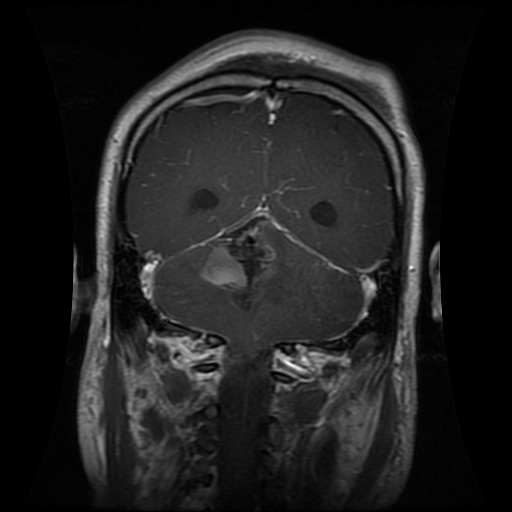glioma: (198, 217, 279, 311)
